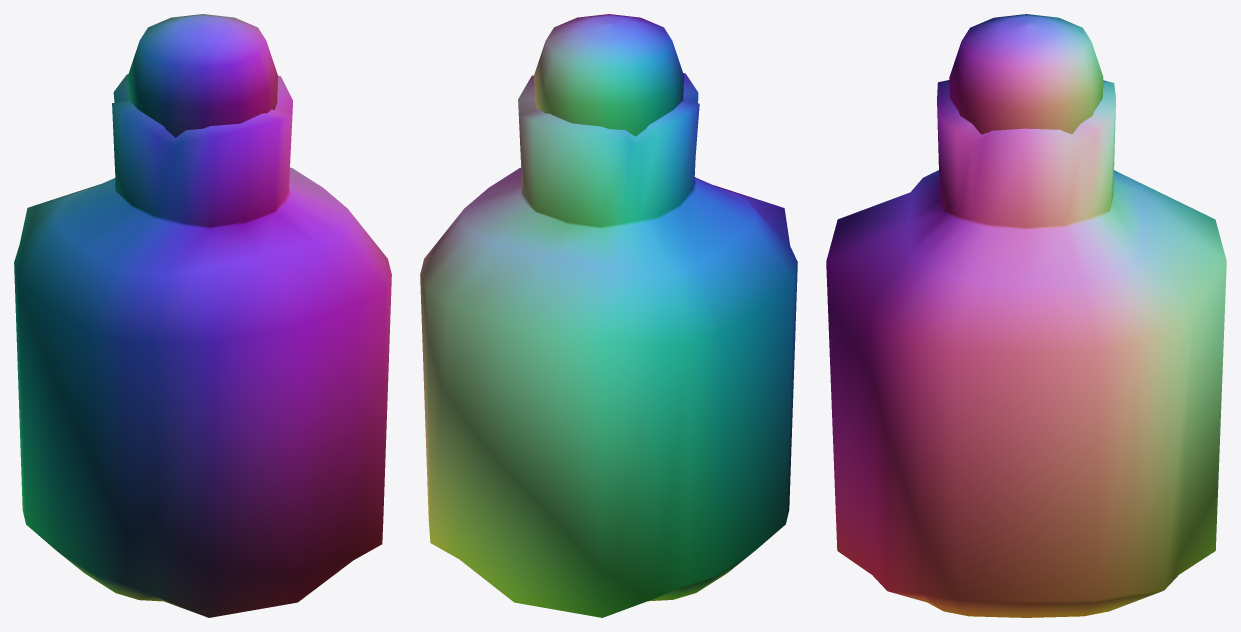
File: SM_Pickup_Antidote.fbx
3 renders of one model, left to right at view 1: azimuth 30°, elevation 25°; view 2: azimuth 150°, elevation 25°; view 3: azimuth 270°, elevation 25°, orthographic. The views are drawn at different scales.
Visible parts, largest first — view 1: SM_Pickup_Antidote; view 2: SM_Pickup_Antidote; view 3: SM_Pickup_Antidote.
Part boxes in pixels (x1,y1,x2,y2): SM_Pickup_Antidote: [14, 14, 391, 617]; SM_Pickup_Antidote: [420, 14, 797, 617]; SM_Pickup_Antidote: [826, 14, 1226, 617].
Bounding box in the file's own units: 0.2057 × 0.335 × 0.2269.
